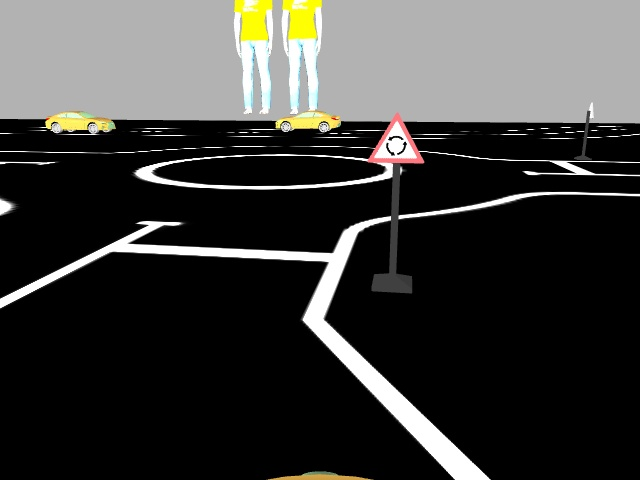Roundabout: (366, 110, 425, 164)
